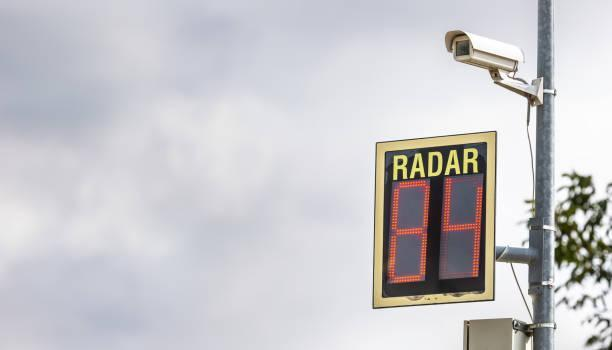camera: (418, 11, 554, 114)
